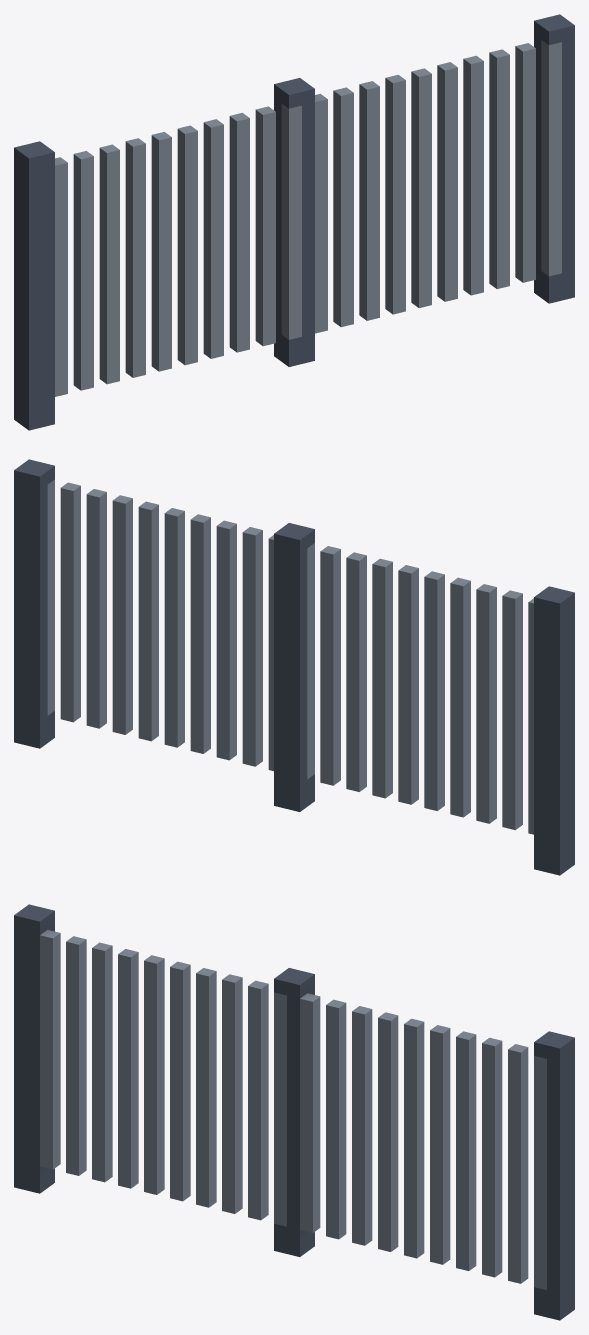
The model's file is fence_steel.glb.
The picture shows the model from 3 angles, top to bottom: view 1: azimuth 30°, elevation 25°; view 2: azimuth 150°, elevation 25°; view 3: azimuth 330°, elevation 25°; orthographic projection.
Parts seen in each view (by area): view 1: Model; view 2: Model; view 3: Model.
Boxes of the visible parts, x1,y1,x2,y2 form: Model: (14, 14, 574, 430); Model: (14, 459, 574, 875); Model: (14, 904, 574, 1320).
Size of the model in its own units: 4.2 by 2 by 0.2.
